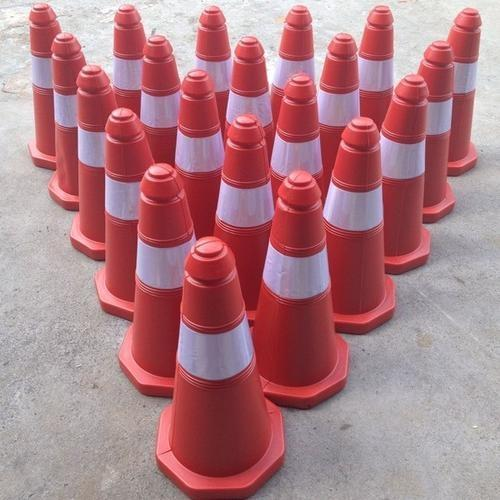cone_barrel: (158, 235, 282, 483), (253, 173, 351, 402), (117, 160, 200, 394), (321, 111, 395, 333), (98, 105, 155, 308), (376, 67, 431, 275), (211, 110, 277, 247), (72, 59, 115, 255), (171, 70, 227, 220), (268, 71, 327, 204), (418, 39, 454, 219), (445, 6, 483, 172), (48, 25, 83, 202), (317, 31, 362, 158), (26, 4, 58, 171), (357, 6, 399, 126), (137, 36, 181, 150), (269, 3, 315, 96), (191, 4, 231, 97), (109, 6, 144, 106)
